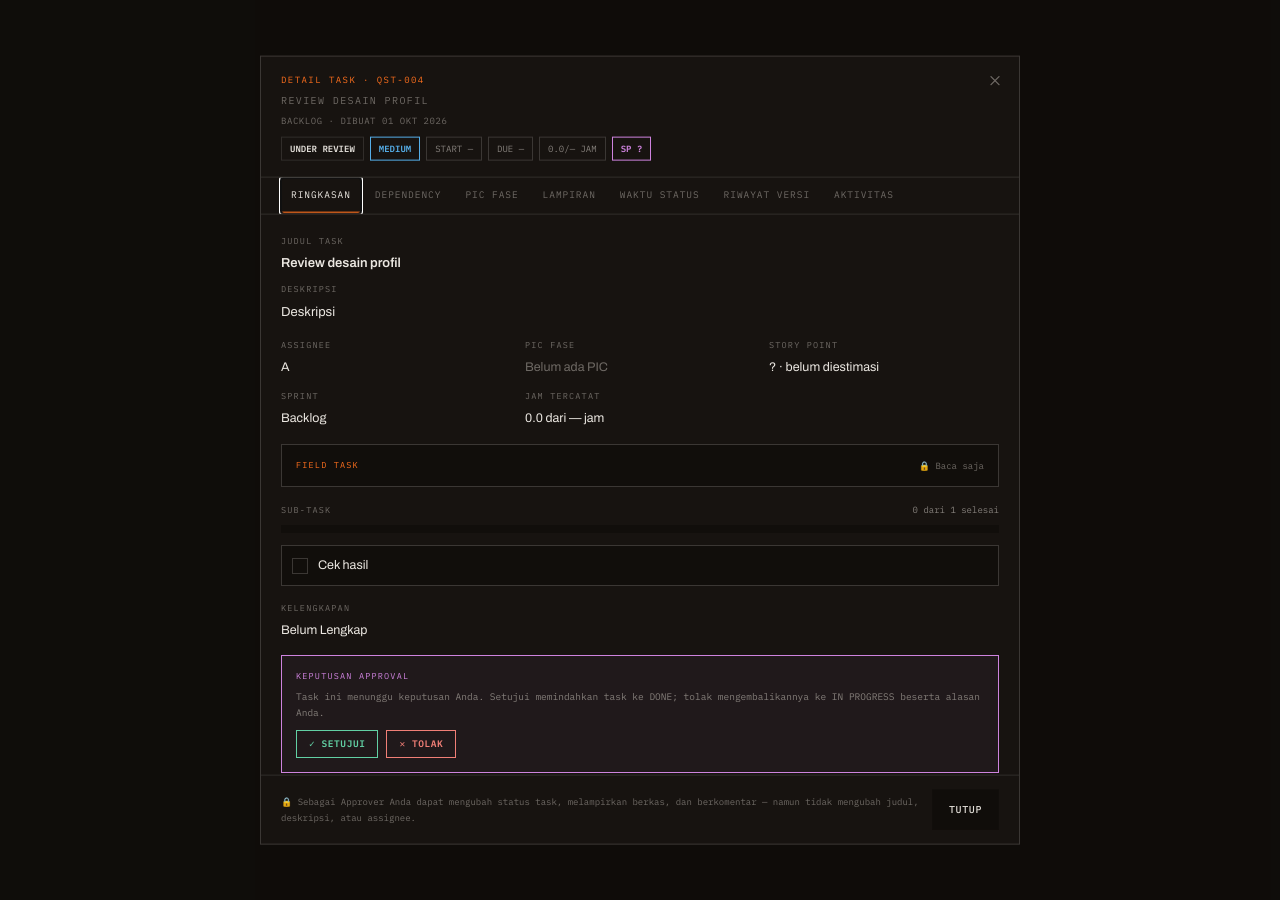
it: TaskDetailModal mode Approver: keputusan approval › galat server (sudah diputuskan) tampil di modal dan modal tetap terbuka
Click the button "✓ SETUJUI".
click(337, 744)  # box left=296, top=730, right=378, bottom=758
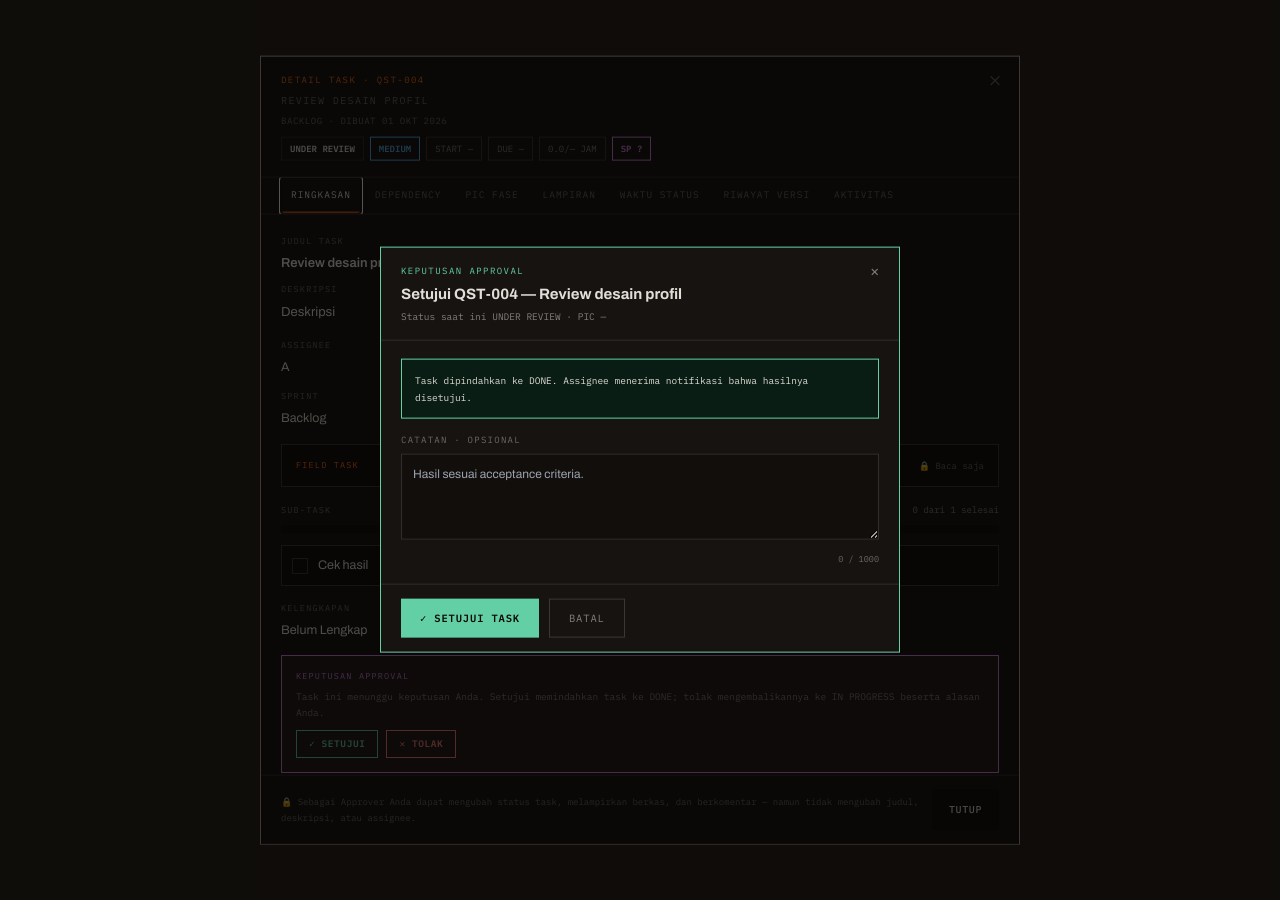
Click the button "✓ SETUJUI TASK".
click(470, 618)  # box left=401, top=598, right=539, bottom=638
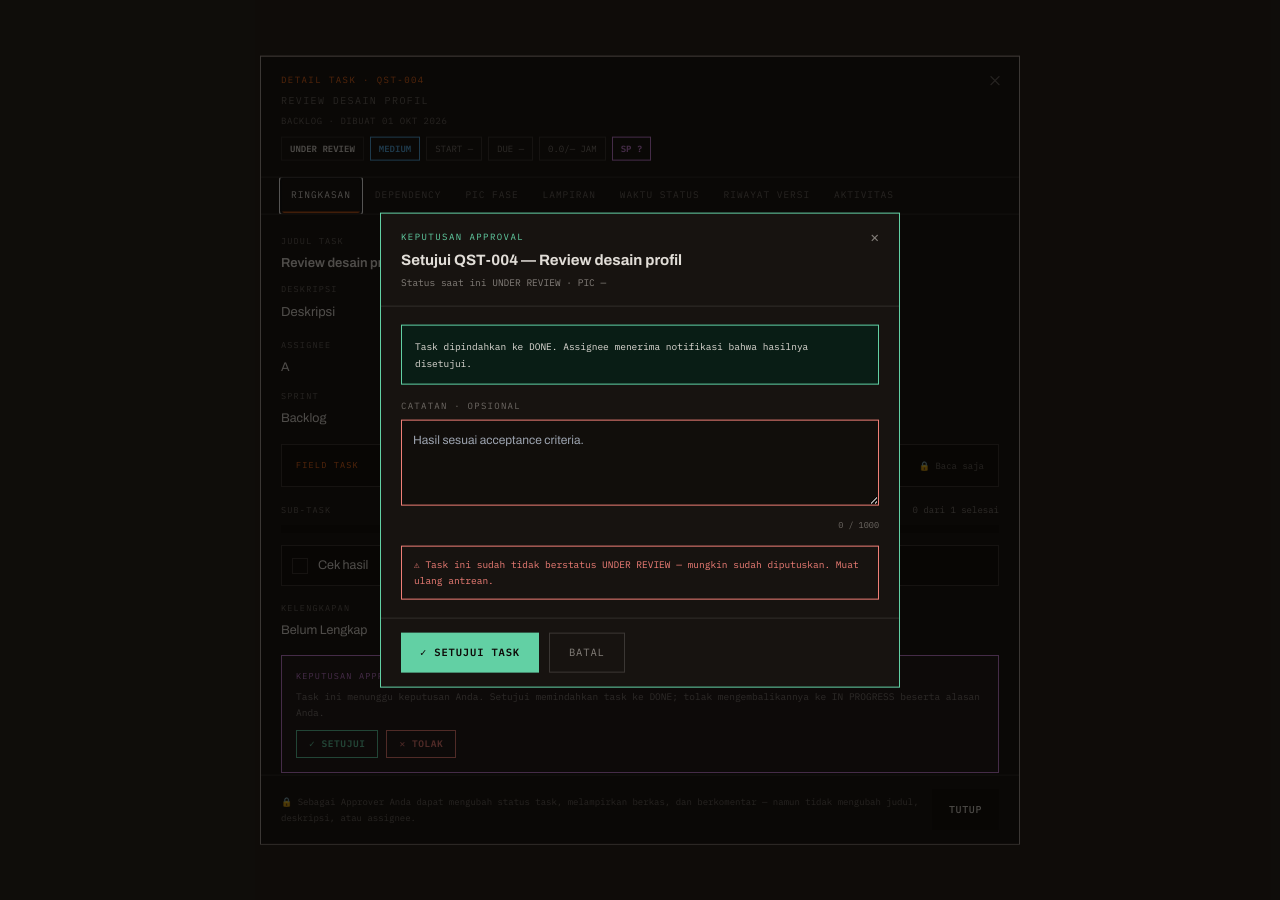
Result: the dialog "Setujui QST-004" is shown at left=380, top=213, right=900, bottom=687
Result: the text "sudah tidak berstatus UNDER REVIEW" is shown at left=414, top=557, right=859, bottom=586
